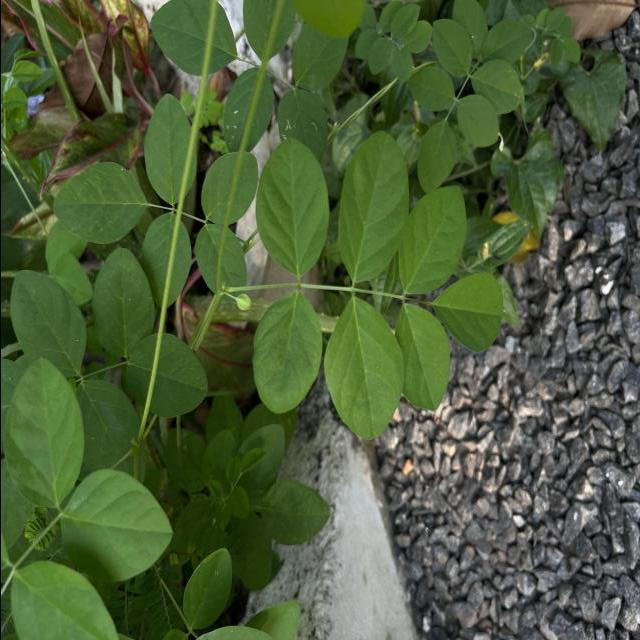Clitoria ternatea: (322, 296, 405, 442), (335, 130, 410, 285), (254, 138, 330, 276), (250, 291, 322, 417), (396, 184, 468, 296), (392, 302, 451, 414), (431, 270, 504, 355)
